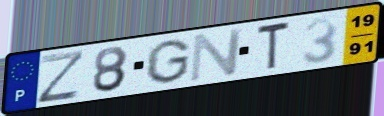3: (301, 15, 340, 65)
8: (90, 45, 129, 95)
G: (143, 38, 193, 85)
N: (188, 26, 246, 83)
T: (255, 19, 292, 74)
Z: (35, 47, 88, 105)
